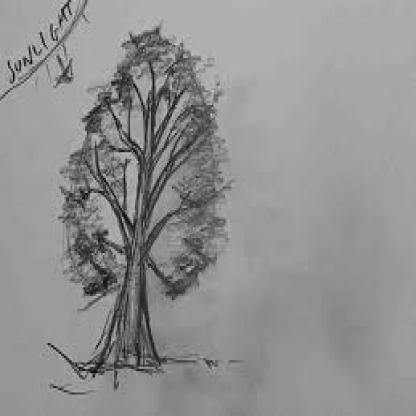branch_sharp: (78, 59, 187, 288)
crown_mushroom: (62, 28, 223, 295)
root_none: (82, 344, 181, 380)
trunk_bark: (109, 296, 155, 332)
